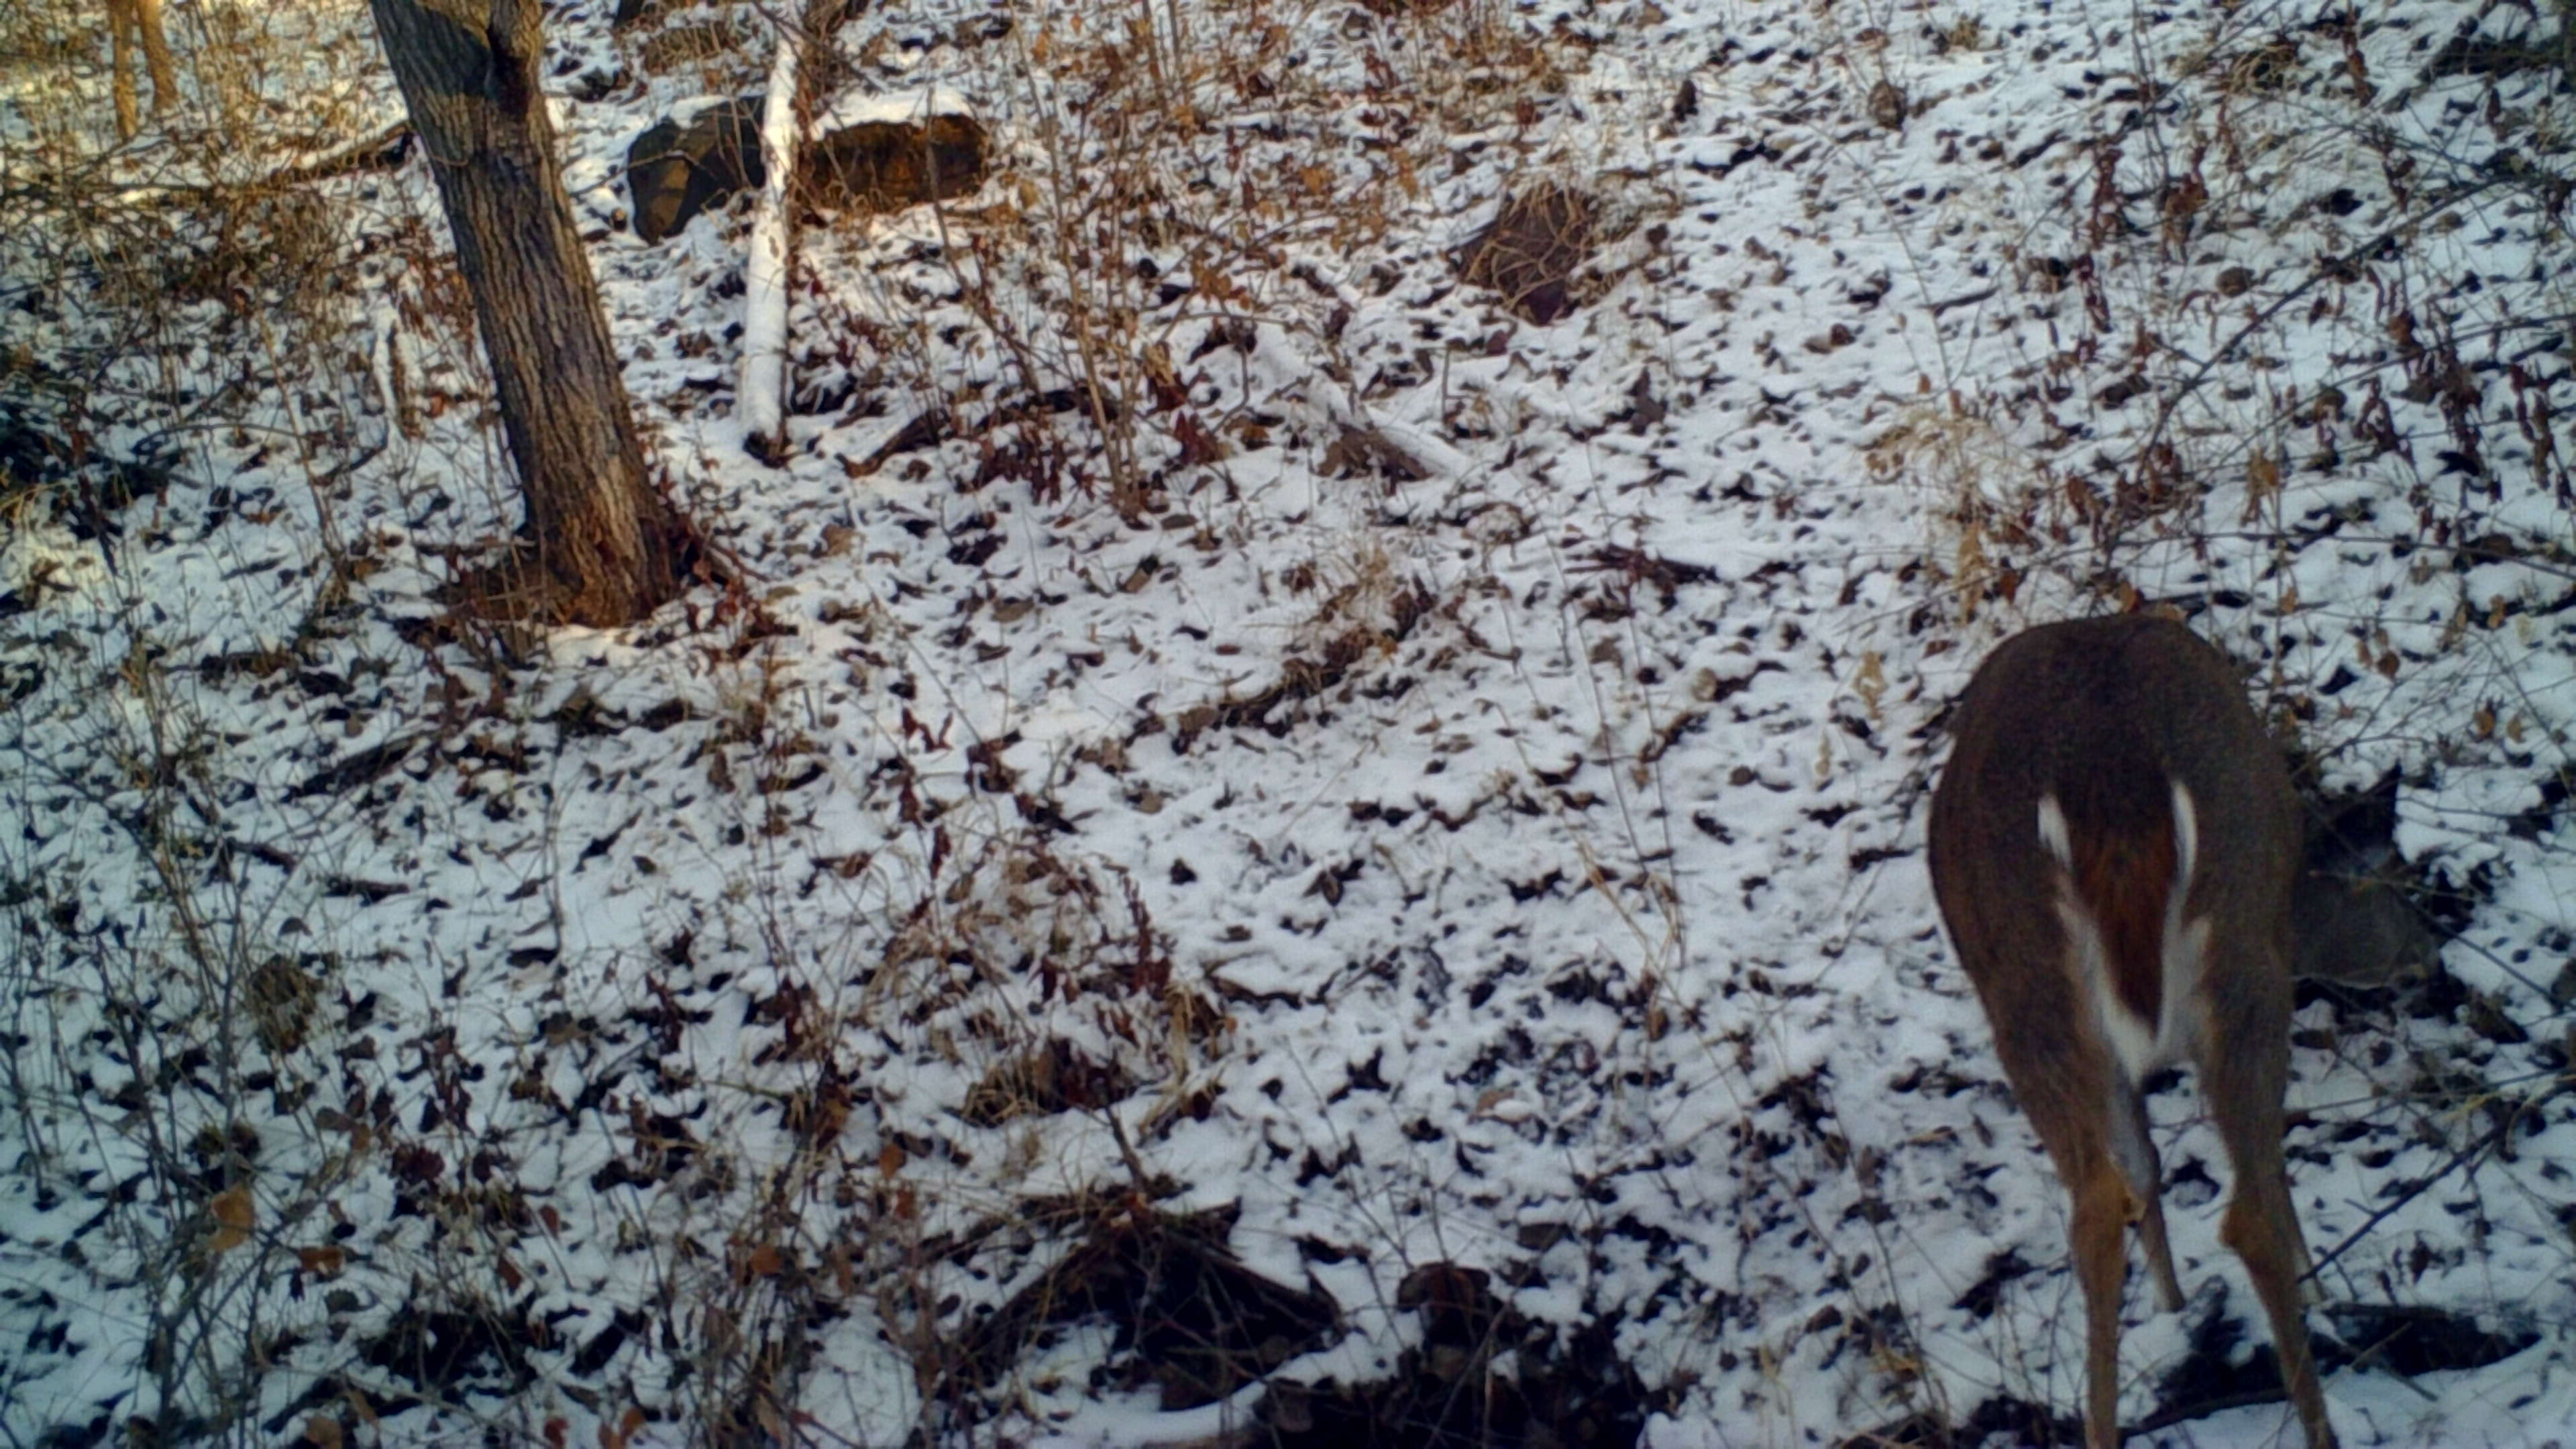Deer: (1921, 607, 2427, 1449)
